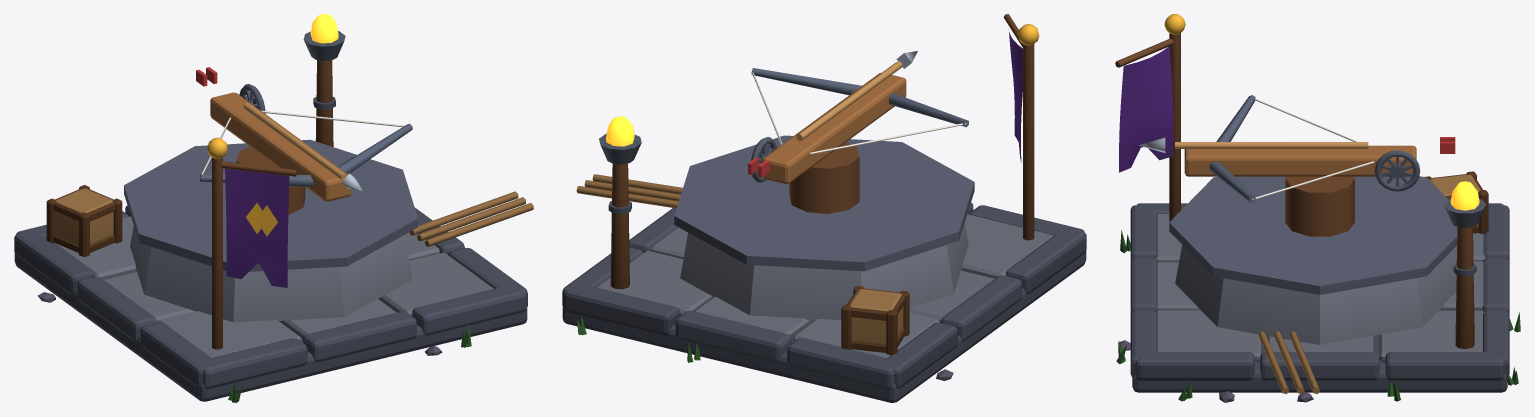
Rendered from ballista.glb.
3 views of the same model, side by side, from view 1: azimuth 30°, elevation 25°; view 2: azimuth 150°, elevation 25°; view 3: azimuth 270°, elevation 25° (orthographic). The views are drawn at different scales.
Parts seen in each view (by area): view 1: t0_stone_dark, t0_stone, t3_cloth_purple, turret_t0_wood, t0_wood_light, t3_wood_dark, t1_wood_dark, t1_wood_light, t2_wood_dark, turret_t0_steel_dark, turret_t0_wood_light, t3_gold (+4 smaller); view 2: t0_stone_dark, t0_stone, turret_t0_wood, turret_t0_wood_dark, t3_wood_dark, t1_wood_dark, t2_wood_dark, turret_t0_steel_dark, t1_wood_light, t0_wood_light, turret_t0_wood_light, t3_cloth_purple (+4 smaller); view 3: t0_stone_dark, t0_stone, turret_t0_wood, t3_cloth_purple, turret_t0_wood_dark, t3_wood_dark, t2_wood_dark, t0_wood_light, turret_t0_wood_light, turret_t0_iron, turret_t0_steel_dark, t0_moss (+6 smaller).
Boxes of the visible parts, box(x1,y1,x2,y2) form: t0_stone_dark: box(14, 139, 527, 401); t0_stone: box(46, 216, 493, 357); t3_cloth_purple: box(225, 168, 289, 287); turret_t0_wood: box(210, 92, 351, 201); t0_wood_light: box(409, 191, 533, 246); t3_wood_dark: box(212, 157, 297, 349); t1_wood_dark: box(46, 185, 122, 256); t1_wood_light: box(55, 188, 113, 244); t2_wood_dark: box(315, 60, 333, 146); turret_t0_steel_dark: box(199, 123, 412, 187); turret_t0_wood_light: box(243, 102, 347, 180); t3_gold: box(207, 137, 277, 236); t0_stone_dark: box(562, 135, 1086, 402); t0_stone: box(597, 214, 1053, 358); turret_t0_wood: box(762, 73, 906, 183); turret_t0_wood_dark: box(789, 142, 859, 213); t3_wood_dark: box(1003, 14, 1034, 240); t1_wood_dark: box(841, 285, 909, 355); t2_wood_dark: box(610, 163, 629, 289); turret_t0_steel_dark: box(751, 68, 968, 127); t1_wood_light: box(849, 289, 903, 344); t0_wood_light: box(576, 174, 682, 208); turret_t0_wood_light: box(796, 61, 902, 141); t3_cloth_purple: box(1008, 29, 1022, 162); t0_stone_dark: box(1130, 176, 1509, 392); t0_stone: box(1154, 214, 1485, 361); turret_t0_wood: box(1184, 145, 1416, 176); t3_cloth_purple: box(1119, 46, 1173, 172); turret_t0_wood_dark: box(1285, 176, 1354, 236); t3_wood_dark: box(1115, 33, 1180, 221); t2_wood_dark: box(1455, 227, 1474, 349); t0_wood_light: box(1259, 331, 1320, 393); turret_t0_wood_light: box(1175, 142, 1368, 148); turret_t0_iron: box(1374, 150, 1420, 191); turret_t0_steel_dark: box(1209, 95, 1255, 202); t0_moss: box(1116, 230, 1520, 401).
Size of the model in its own units: 2.5 by 1.38 by 2.1.
